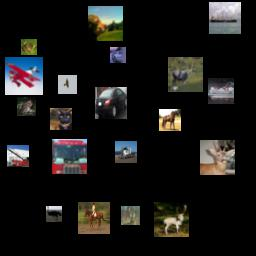airplane: (5, 57, 43, 95)
automobile: (95, 87, 127, 119), (110, 47, 126, 63)
bird: (58, 75, 77, 94), (46, 206, 62, 222)
cat: (50, 108, 72, 130)
deer: (168, 57, 203, 92), (200, 140, 235, 175), (154, 202, 189, 237), (121, 206, 140, 225)
dog: (88, 6, 123, 41)
frog: (17, 97, 36, 116), (21, 39, 37, 55)
ship: (209, 2, 241, 34), (208, 78, 234, 104)
truck: (52, 139, 87, 174), (7, 145, 29, 167), (115, 141, 137, 163)
